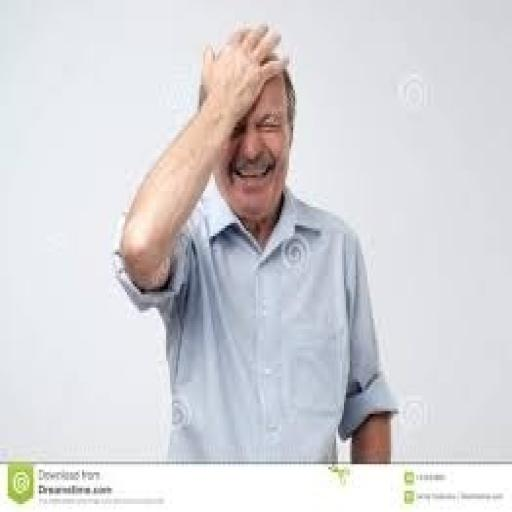laughing: (110, 16, 402, 462)
